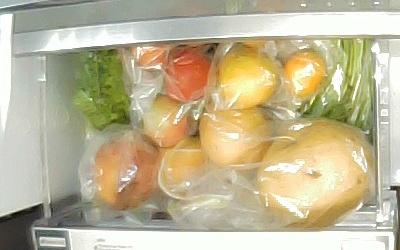peach_vinyl: (93, 138, 160, 209), (159, 138, 208, 187)
pear_vinyl: (258, 120, 369, 224), (199, 104, 268, 167)
tangerine_vinyl: (218, 48, 278, 109), (282, 49, 325, 98)
tomato_vinyl: (139, 95, 189, 148), (162, 48, 211, 102), (132, 45, 172, 68)
